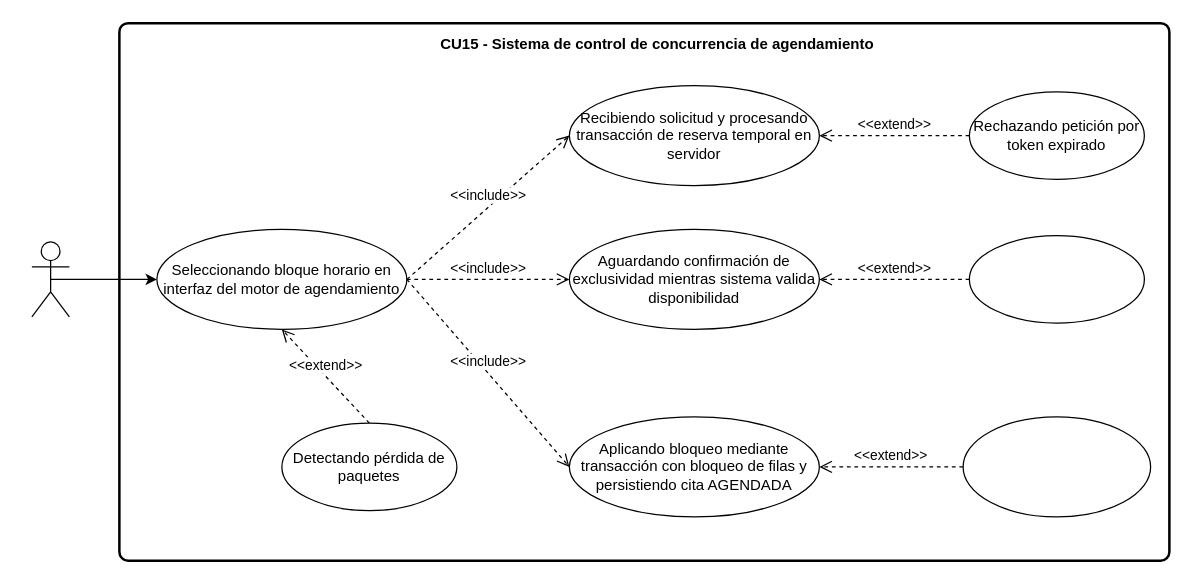
This 1193x583 diagram has some shape labels left out. Each missing label, with the centre of its shape:
"Abortando transacción y notificando bloque reservado" goes at pixel 1056 466.
"Paciente" goes at pixel 50 279.
"Revirtiendo por pérdida de conexión" goes at pixel 1056 278.
